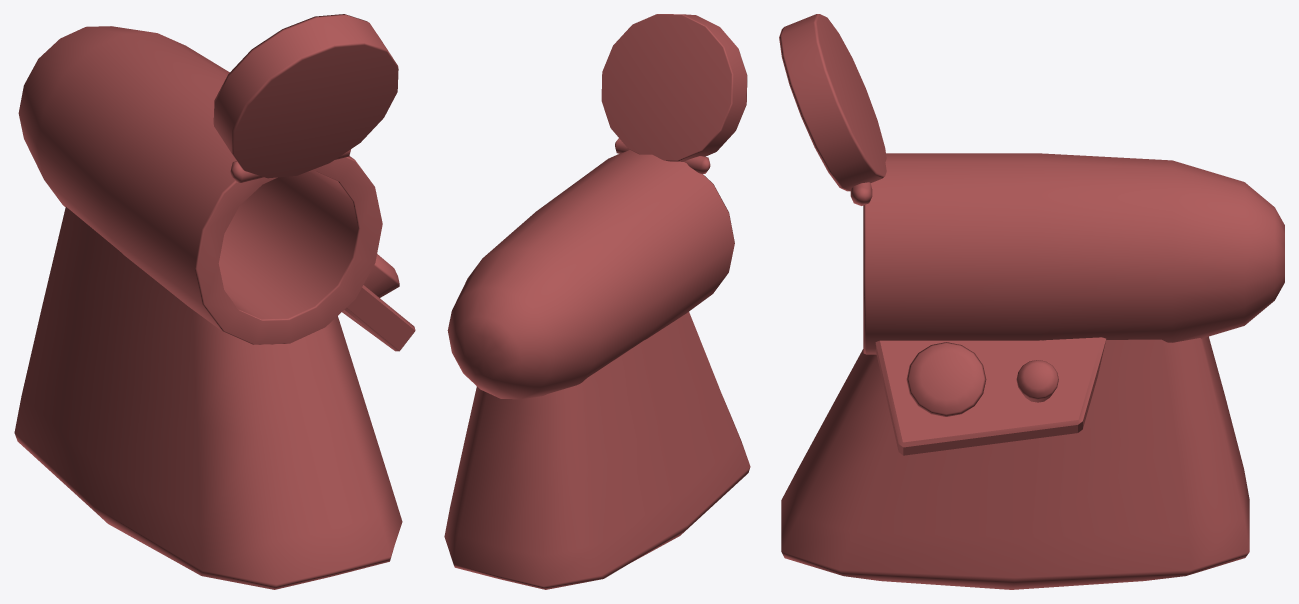
The model's file is Appliance_PillLauncher_Alpha.fbx.
3 views of the same model, side by side, from view 1: azimuth 30°, elevation 25°; view 2: azimuth 150°, elevation 25°; view 3: azimuth 270°, elevation 25° (orthographic). The views are drawn at different scales.
Visible parts, largest first — view 1: Base, Hatch, Launch; view 2: Base, Hatch; view 3: Base, Hatch, Launch, Close.
Boxes of the visible parts, x1,y1,x2,y2 form: Base: (14,26,415,589); Hatch: (213,14,398,178); Launch: (363,254,399,297); Base: (444,138,750,589); Hatch: (601,14,747,161); Base: (781,153,1284,589); Hatch: (779,14,886,191); Launch: (906,342,986,416); Close: (1016,360,1058,402).
Bounding box in the file's own units: 78.82 × 162 × 142.
